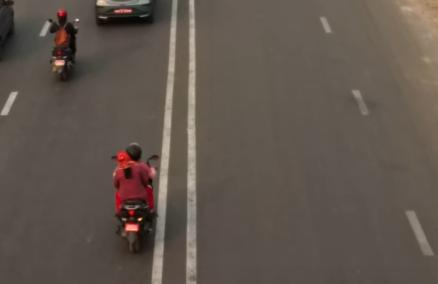scooter: (113, 152, 168, 257), (47, 17, 83, 84)
